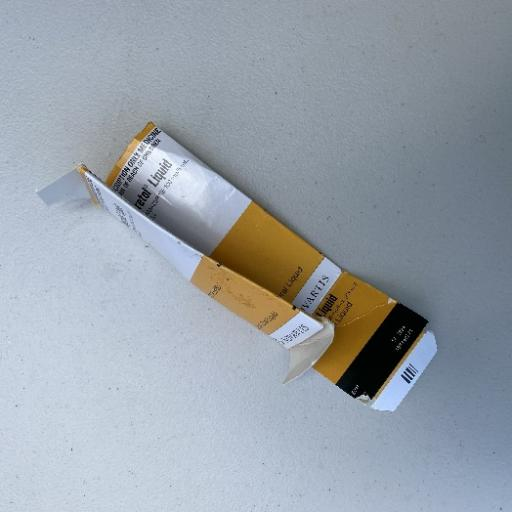Cardboard: (80, 120, 440, 414)
